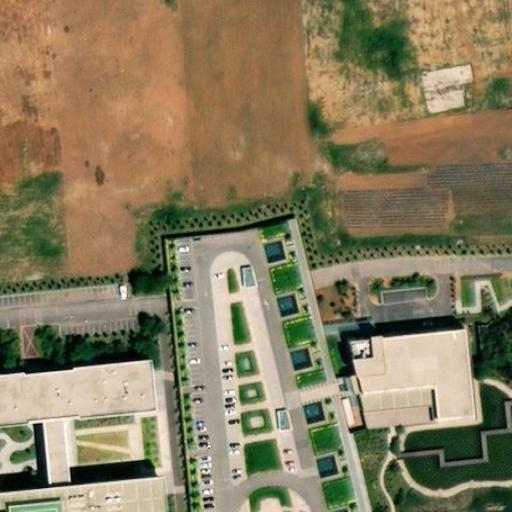building: (0, 365, 153, 492), (347, 326, 470, 439), (375, 281, 428, 303), (399, 442, 444, 461), (234, 259, 254, 283), (498, 395, 512, 427), (272, 402, 289, 427)
